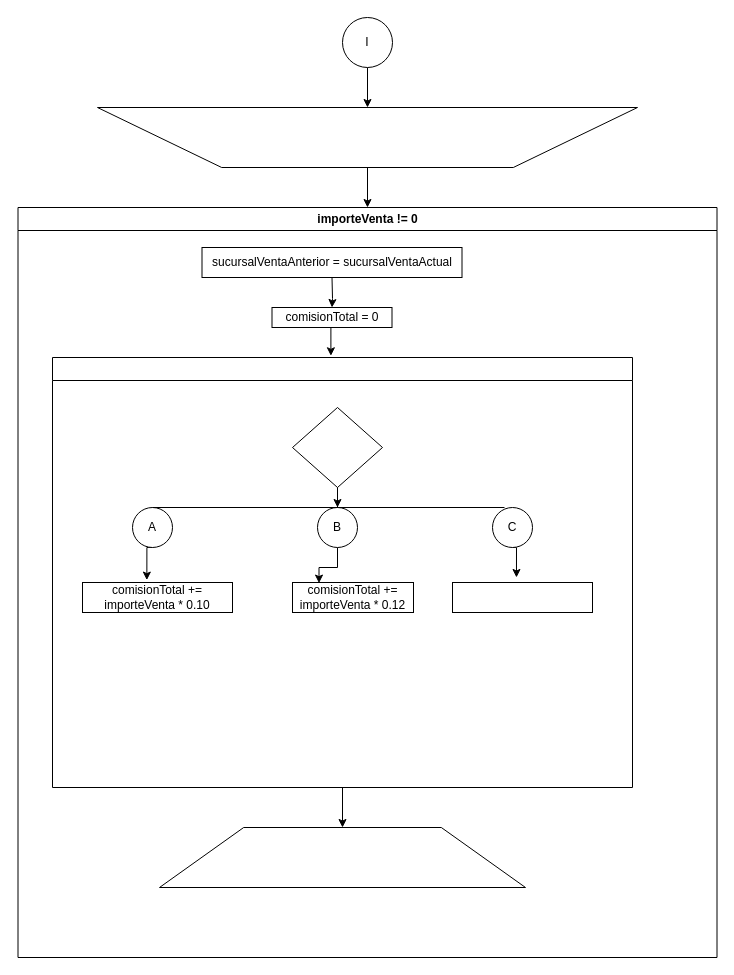
Image size: 734x975. Some labels were removed from this diagram. Each missing label, with the box of its shape:
"SUCURSAL" , sucursalVentaAnterior comisionTotal: (158, 826, 526, 888)
comisionTotal += importeVenta * 0.15: (452, 582, 592, 612)
editorialLibro: (292, 406, 382, 488)
sucursalVentaActual == sucursalVentaAnterior && importeVenta != 0: (52, 356, 632, 788)
sucuVentaActual, numVendedor, diaVenta, tipoCliente, importeVenta editorialLibro: (96, 106, 638, 168)
